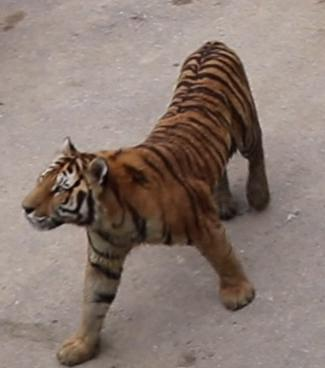tiger: (24, 42, 269, 363)
